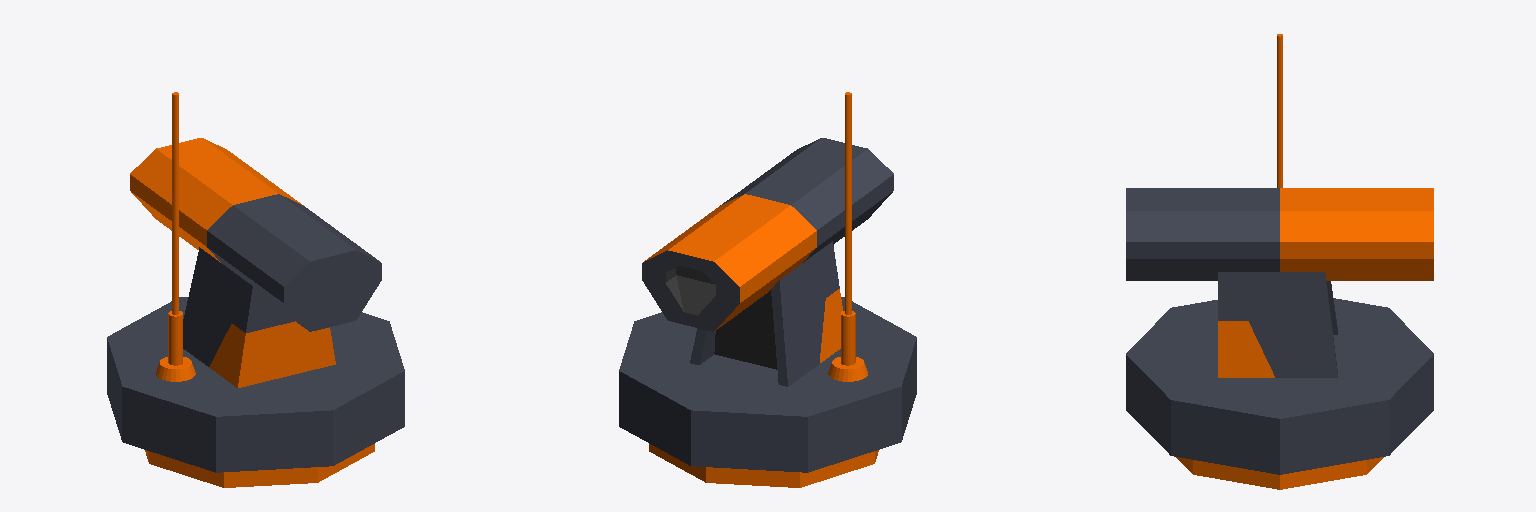
File: turret.obj
The picture shows the model from 3 angles: view 1: azimuth 30°, elevation 25°; view 2: azimuth 150°, elevation 25°; view 3: azimuth 270°, elevation 25°; orthographic projection.
Visible parts, largest first — view 1: cylinder_vertex_0, engine_barrel_5, engine_intake_4, detail_antenna_9, cylinder_vertex_10; view 2: cylinder_vertex_0, engine_barrel_5, engine_intake_4, detail_antenna_9, cylinder_vertex_10; view 3: cylinder_vertex_0, engine_barrel_5, engine_intake_4, cylinder_vertex_10, detail_antenna_9.
Boxes of the visible parts, x1=… form: cylinder_vertex_0: x1=107, y1=297, x2=404, y2=472; engine_barrel_5: x1=130, y1=138, x2=381, y2=331; engine_intake_4: x1=183, y1=247, x2=335, y2=387; detail_antenna_9: x1=156, y1=92, x2=195, y2=381; cylinder_vertex_10: x1=145, y1=444, x2=374, y2=487; cylinder_vertex_0: x1=619, y1=297, x2=916, y2=472; engine_barrel_5: x1=642, y1=138, x2=893, y2=331; engine_intake_4: x1=690, y1=241, x2=842, y2=386; detail_antenna_9: x1=828, y1=92, x2=867, y2=381; cylinder_vertex_10: x1=649, y1=444, x2=878, y2=487; cylinder_vertex_0: x1=1126, y1=298, x2=1433, y2=474; engine_barrel_5: x1=1126, y1=188, x2=1433, y2=280; engine_intake_4: x1=1218, y1=272, x2=1337, y2=377; cylinder_vertex_10: x1=1176, y1=457, x2=1383, y2=489; detail_antenna_9: x1=1277, y1=34, x2=1282, y2=187.
Size of the model in its own units: 1 by 1.3 by 1.